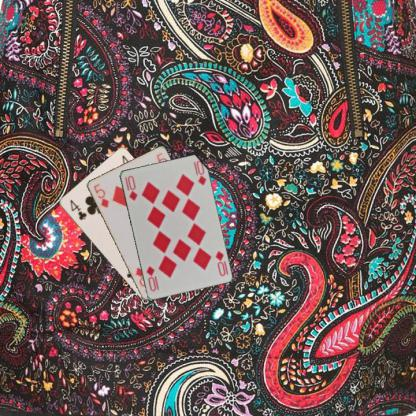10d: (122, 172, 139, 202), (212, 248, 226, 277)
4c: (67, 197, 88, 221)
5d: (90, 181, 110, 209)
